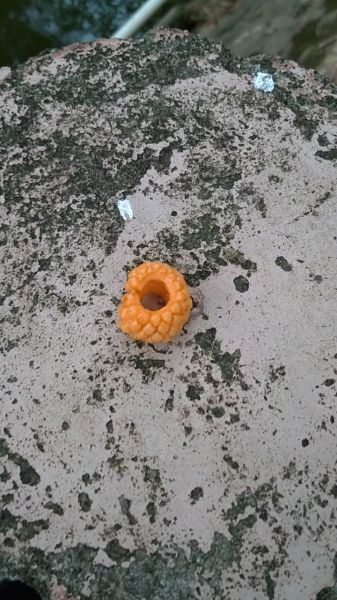eggs: (109, 256, 198, 350)
